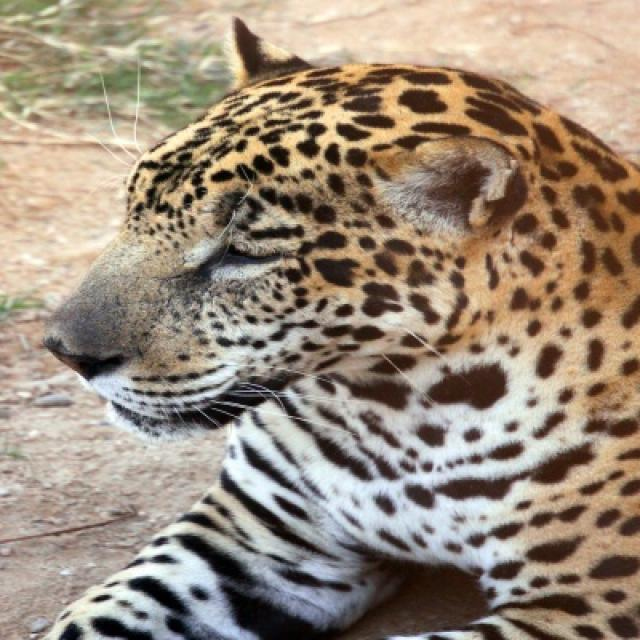Jaguar: (37, 18, 638, 638)
